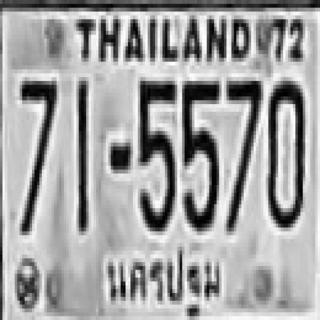N00: (266, 77, 303, 224)
N01: (75, 77, 87, 231)
N05: (180, 77, 217, 227), (138, 77, 175, 227)
N07: (18, 77, 56, 231), (223, 75, 260, 229), (225, 77, 260, 177), (20, 77, 54, 174)
P28: (100, 245, 227, 320)
